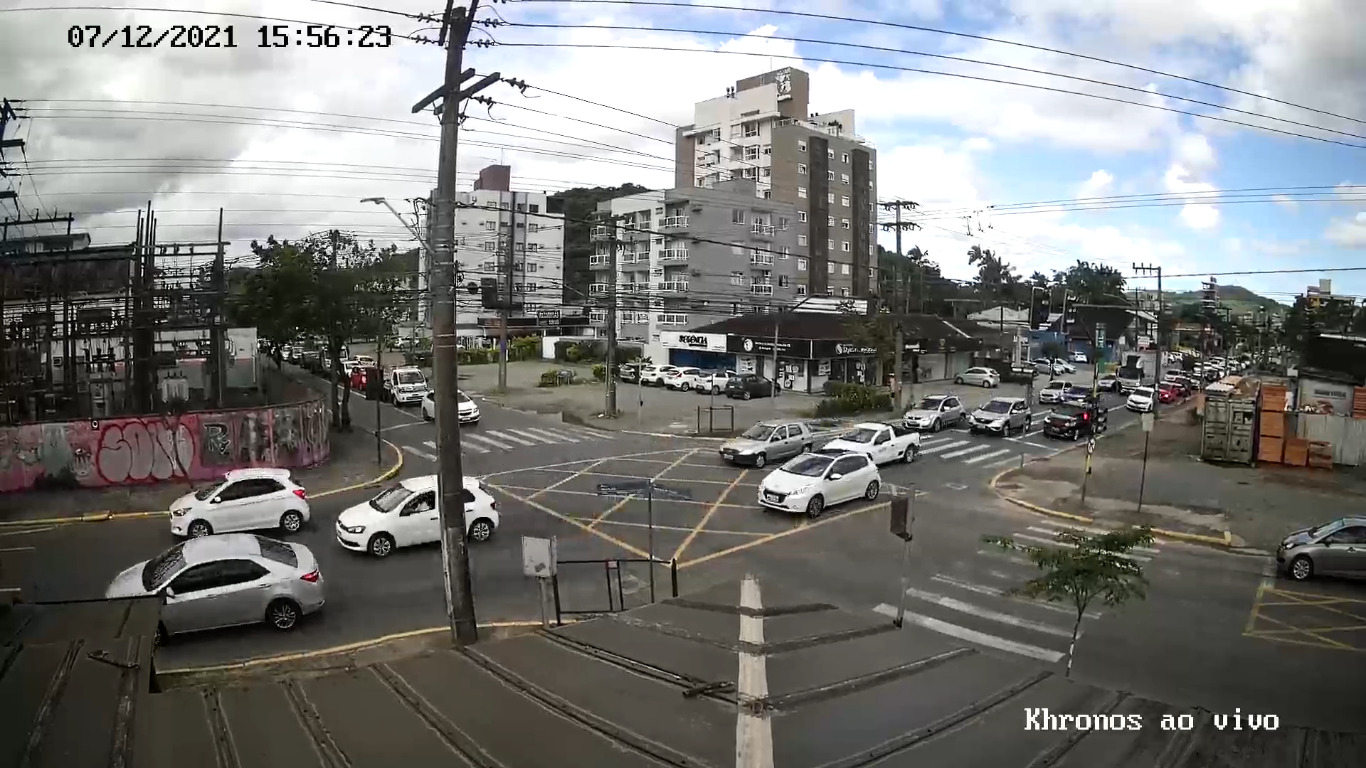car: (102, 532, 326, 648), (334, 472, 500, 558), (168, 469, 311, 537), (756, 449, 881, 519)
